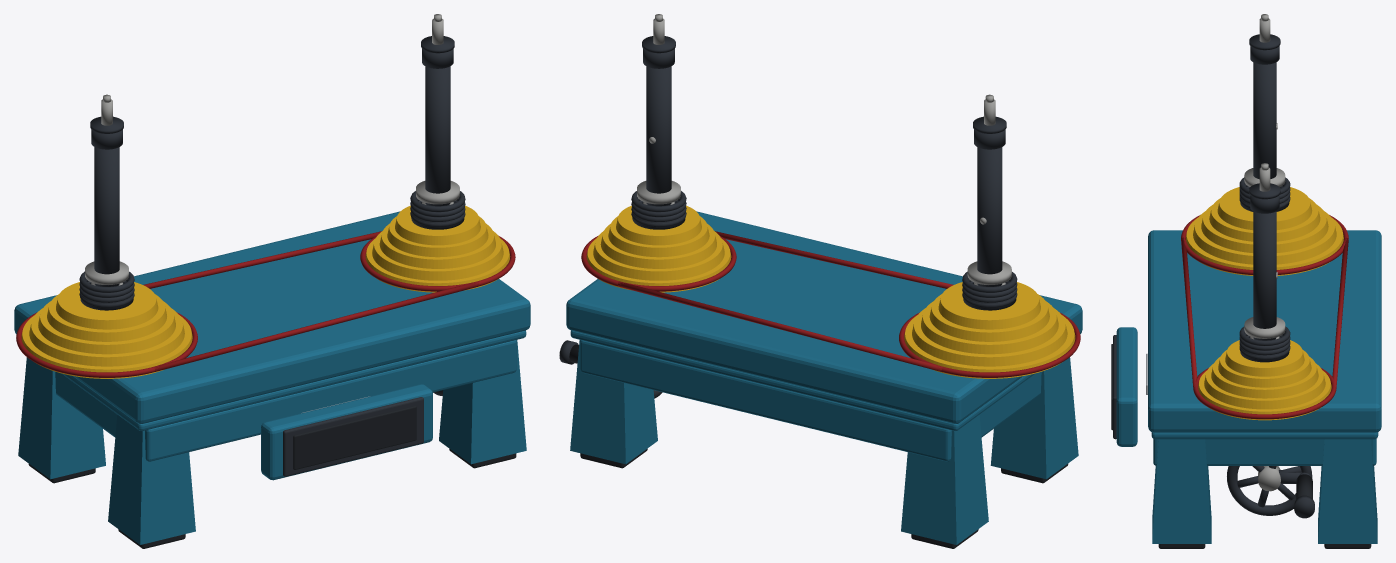
The model's file is centripetal.glb.
3 views of the same model, side by side, from view 1: azimuth 30°, elevation 25°; view 2: azimuth 150°, elevation 25°; view 3: azimuth 270°, elevation 25° (orthographic). The views are drawn at different scales.
Visible parts, largest first — view 1: base_slab, pulley_l, skirt_front, pulley_r, leg_lf, leg_lb, leg_rf, panel_glass, panel_box, base_eave, column_r_tube, column_l_tube (+10 smaller); view 2: base_slab, skirt_back, pulley_l, pulley_r, leg_lb, leg_lf, leg_rb, base_eave, column_r_tube, column_l_tube, belt_run_b, skirt_l (+7 smaller); view 3: base_slab, pulley_l, pulley_r, leg_rb, leg_rf, skirt_r, column_r_tube, column_l_tube, panel_box, base_eave, hand_rim, column_r_spring (+15 smaller).
Boxes of the visible parts, bbox=[...] form: base_slab: bbox=[14, 211, 530, 423]; pulley_l: bbox=[21, 282, 192, 378]; skirt_front: bbox=[145, 340, 516, 461]; pulley_r: bbox=[365, 202, 510, 292]; leg_lf: bbox=[108, 415, 195, 544]; leg_lb: bbox=[18, 357, 105, 479]; leg_rf: bbox=[439, 340, 526, 464]; panel_glass: bbox=[293, 406, 416, 469]; panel_box: bbox=[261, 384, 432, 480]; base_eave: bbox=[61, 330, 526, 430]; column_r_tube: bbox=[425, 66, 450, 206]; column_l_tube: bbox=[94, 147, 119, 286]; base_slab: bbox=[566, 211, 1082, 423]; skirt_back: bbox=[580, 340, 951, 461]; pulley_l: bbox=[904, 282, 1075, 378]; pulley_r: bbox=[586, 202, 731, 292]; leg_lb: bbox=[901, 415, 988, 544]; leg_lf: bbox=[990, 357, 1078, 479]; leg_rb: bbox=[570, 340, 657, 464]; base_eave: bbox=[570, 330, 1035, 431]; column_r_tube: bbox=[646, 66, 671, 206]; column_l_tube: bbox=[977, 147, 1002, 286]; belt_run_b: bbox=[618, 281, 942, 372]; skirt_l: bbox=[979, 371, 1041, 437]; base_slab: bbox=[1148, 230, 1381, 432]; pulley_l: bbox=[1186, 187, 1343, 275]; pulley_r: bbox=[1198, 336, 1331, 420]; leg_rb: bbox=[1318, 439, 1377, 543]; leg_rf: bbox=[1152, 439, 1211, 543]; skirt_r: bbox=[1205, 439, 1324, 465]; column_r_tube: bbox=[1253, 211, 1276, 340]; column_l_tube: bbox=[1253, 62, 1276, 179]; panel_box: bbox=[1116, 327, 1137, 446]; base_eave: bbox=[1151, 432, 1378, 439]; hand_rim: bbox=[1227, 466, 1312, 515]; column_r_spring: bbox=[1239, 326, 1290, 359].
Size of the model in its own units: 0.4399 by 0.3545 by 0.2315.
